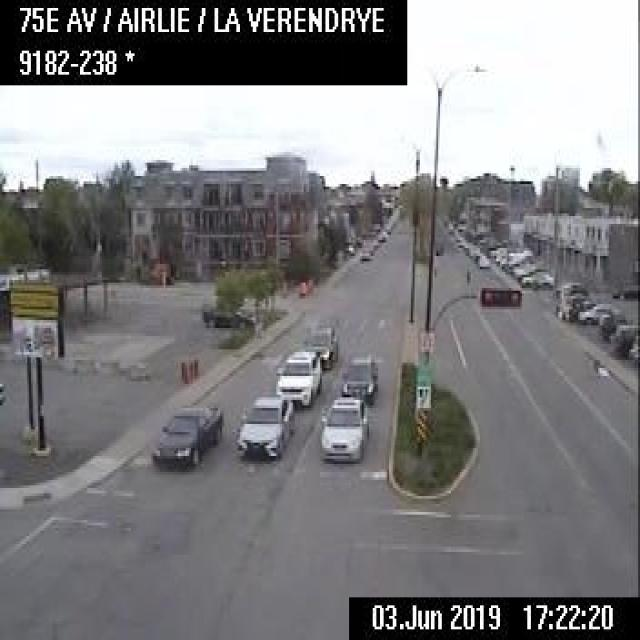construction: (297, 278, 304, 296)
vehicle: (153, 400, 222, 464), (232, 393, 292, 456), (316, 395, 368, 459), (274, 347, 322, 405), (340, 351, 377, 404), (304, 322, 338, 366), (199, 301, 253, 327), (577, 301, 621, 320), (519, 269, 553, 287), (476, 255, 489, 267), (358, 251, 369, 262)
